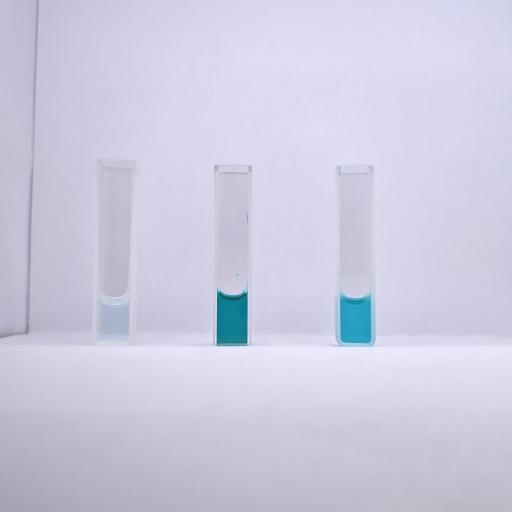cuvette: (92, 156, 138, 348), (334, 163, 378, 347), (211, 162, 254, 348)
liquid: (217, 290, 248, 344), (341, 291, 372, 342), (97, 294, 130, 341)
